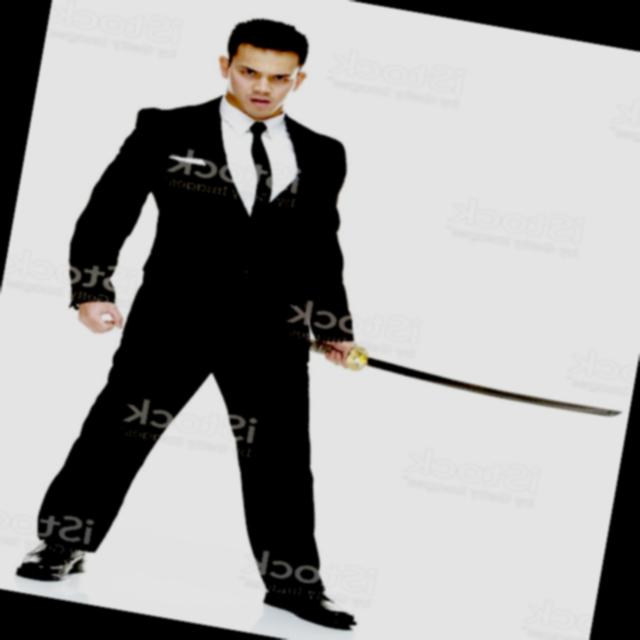long sword: (306, 332, 624, 425)
